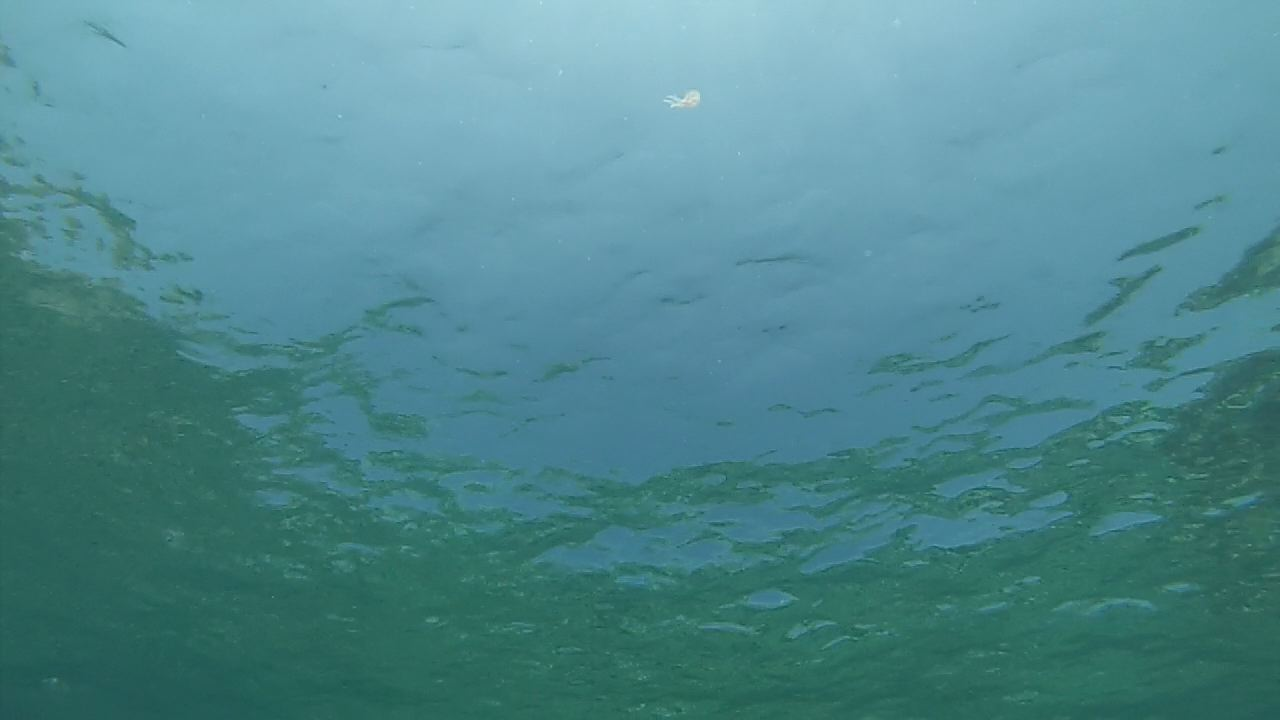pelagia: (661, 86, 705, 121)
